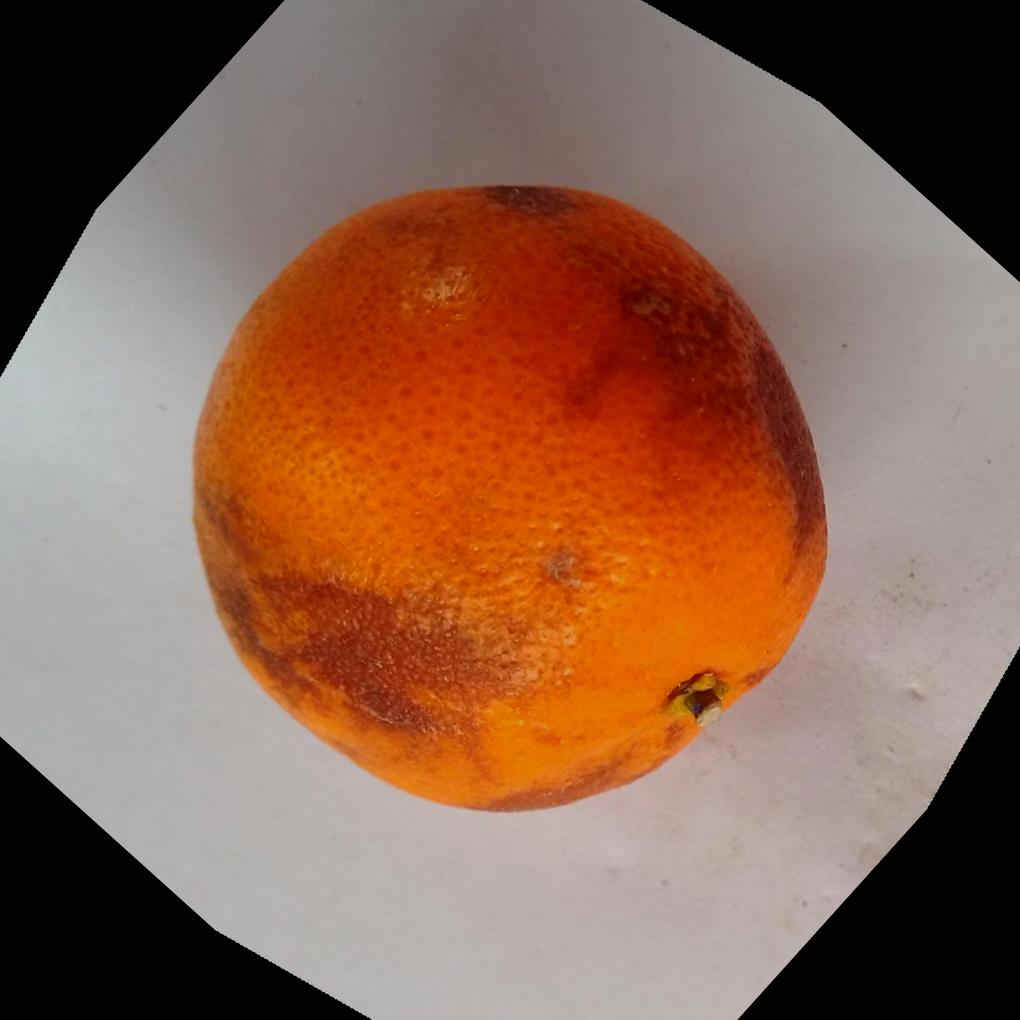FreshOrange: (186, 178, 827, 813)
